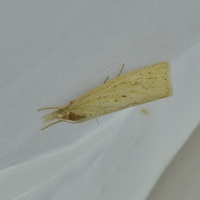insect: (38, 62, 172, 129)
